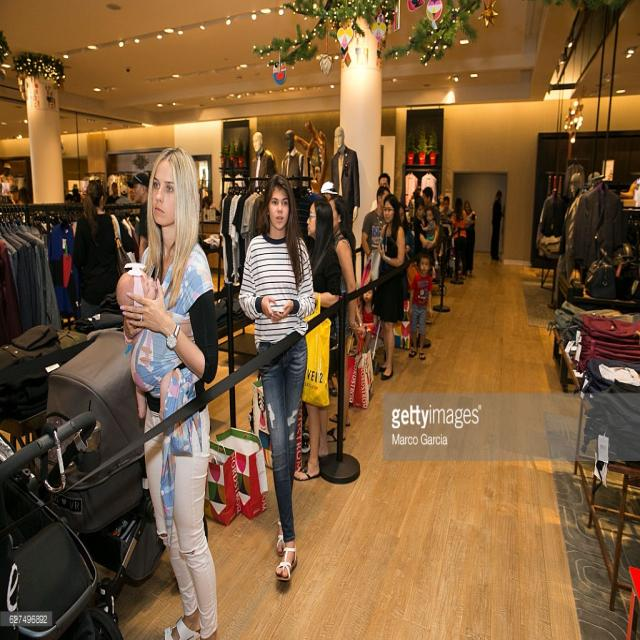body: (113, 142, 221, 639), (237, 172, 316, 586), (290, 195, 342, 482), (114, 264, 178, 424), (326, 194, 362, 444), (369, 190, 405, 382), (73, 178, 120, 322), (546, 170, 582, 311), (247, 126, 306, 189), (407, 249, 434, 362), (360, 184, 392, 270), (126, 172, 152, 268), (327, 124, 361, 194), (396, 200, 416, 302), (127, 170, 149, 262), (413, 193, 437, 269), (452, 196, 469, 280), (438, 194, 454, 278), (462, 197, 478, 277), (489, 186, 505, 262), (70, 186, 86, 246), (369, 172, 392, 213), (356, 286, 378, 325), (6, 184, 26, 223), (408, 184, 424, 232), (422, 185, 441, 224), (343, 193, 360, 234), (439, 195, 451, 249), (115, 185, 133, 220), (424, 204, 437, 251), (103, 181, 121, 214), (0, 170, 16, 197), (319, 180, 339, 201), (462, 208, 477, 231), (17, 186, 32, 205), (64, 188, 74, 202), (204, 197, 213, 211), (72, 182, 77, 187)
